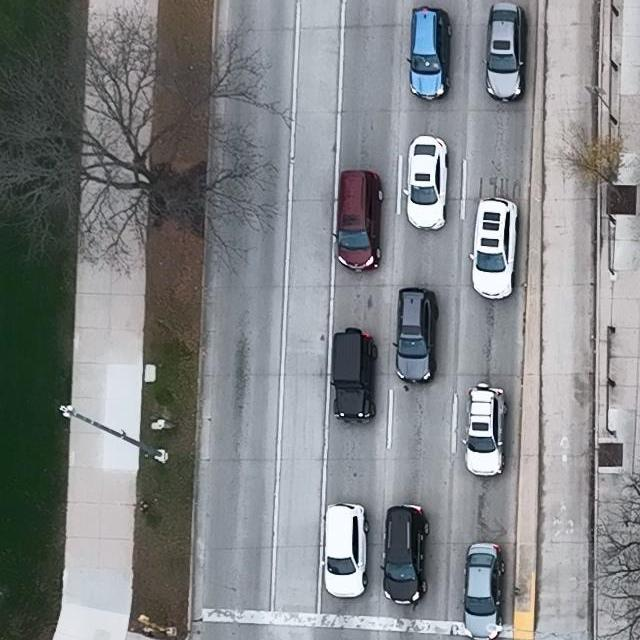car: (467, 197, 521, 301), (331, 169, 384, 272), (380, 505, 431, 605), (322, 502, 370, 599), (482, 2, 527, 103), (406, 6, 453, 102), (403, 136, 450, 230), (393, 287, 439, 383), (331, 327, 377, 423), (460, 542, 505, 640), (462, 383, 509, 476)
